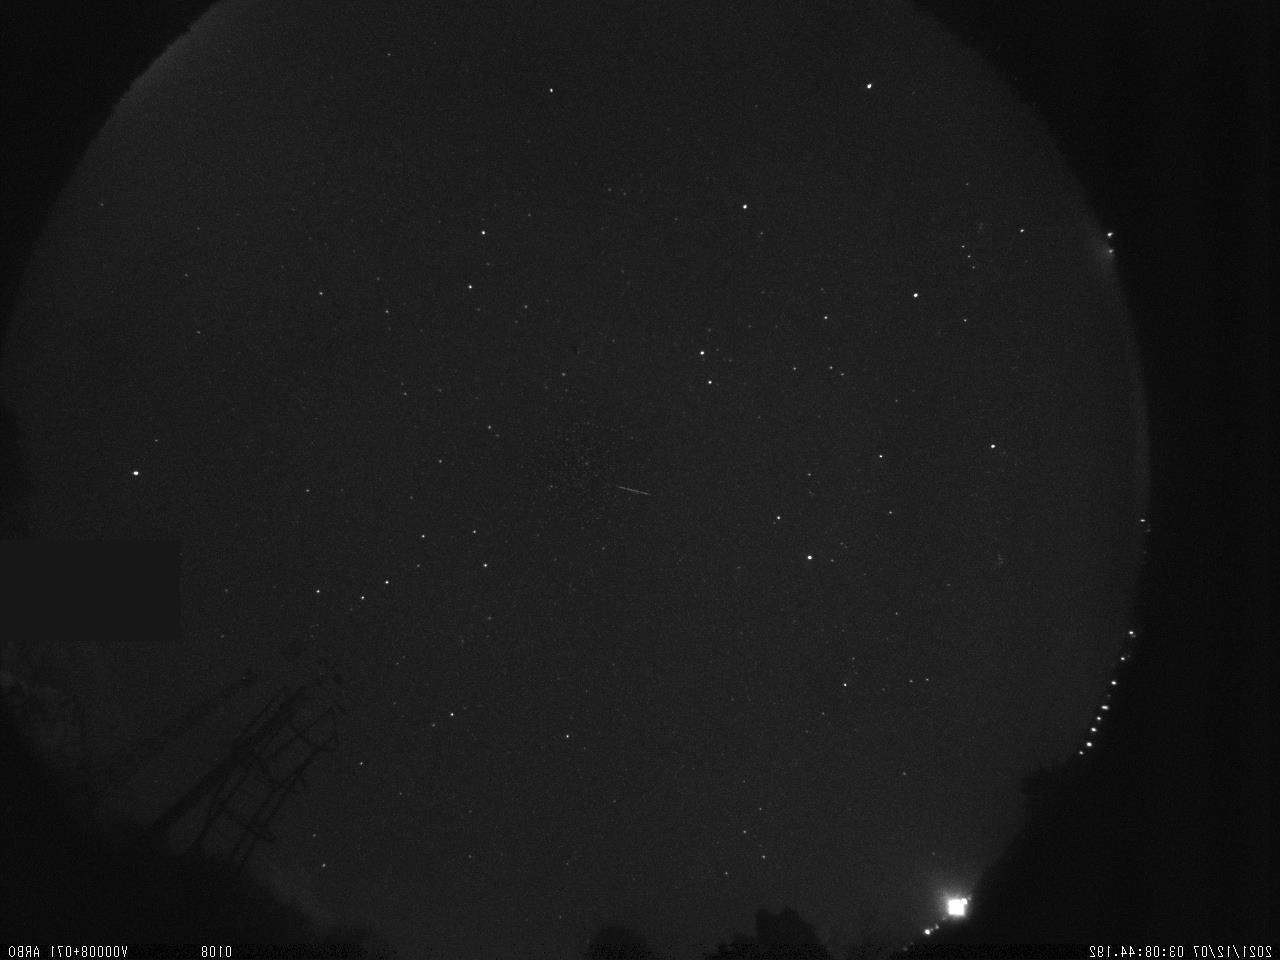meteor: (597, 478, 676, 513)
